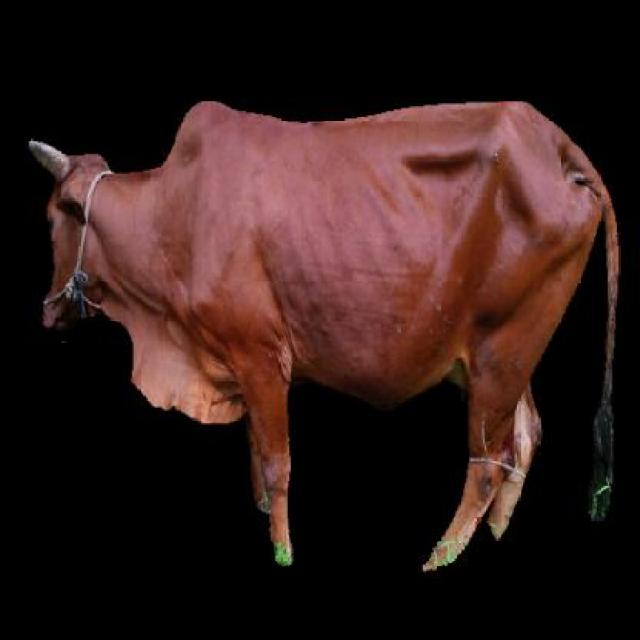Cow: (29, 97, 620, 566)
